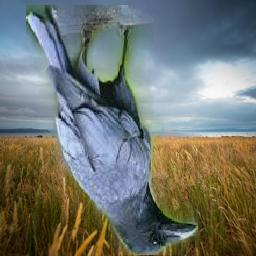Crow: (26, 5, 198, 255)
